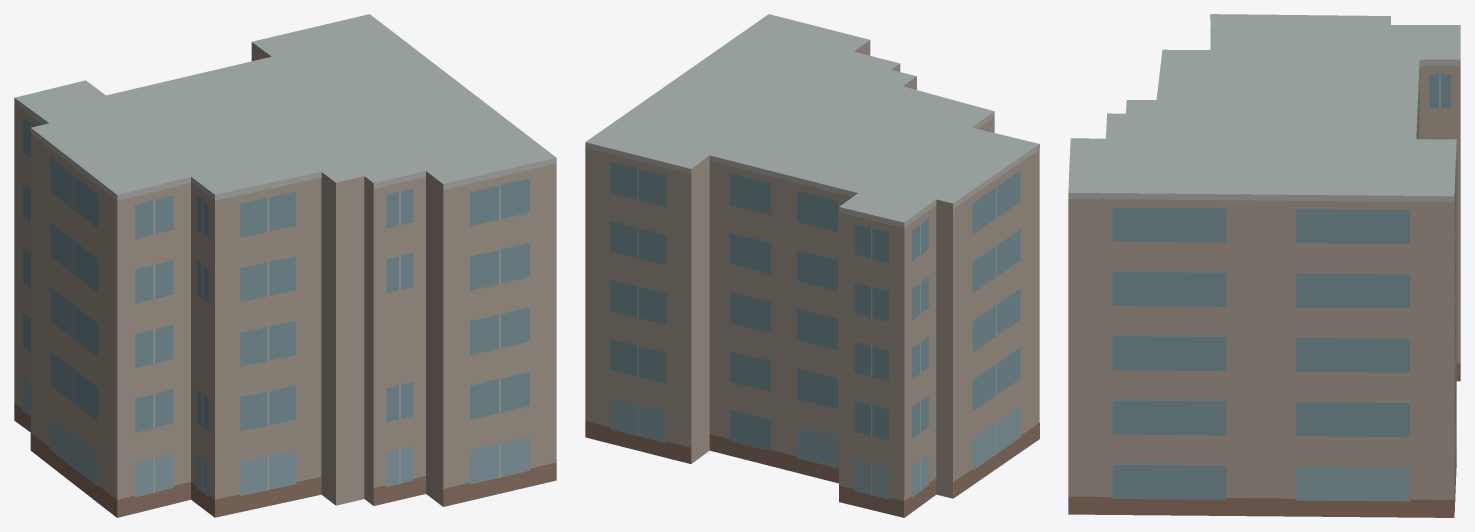
Rendered from survey-upis-32968297.glb.
3 views of the same model, side by side, from view 1: azimuth 30°, elevation 25°; view 2: azimuth 150°, elevation 25°; view 3: azimuth 270°, elevation 25° (orthographic). The views are drawn at different scales.
Visible parts, largest first — view 1: survey-upis-32968297.tmp; view 2: survey-upis-32968297.tmp; view 3: survey-upis-32968297.tmp.
Part boxes in pixels (box(x1,y1,x2,y2)): survey-upis-32968297.tmp: box(14, 14, 556, 517); survey-upis-32968297.tmp: box(585, 14, 1039, 517); survey-upis-32968297.tmp: box(1068, 14, 1460, 517).
Bounding box in the file's own units: 15.93 × 13.1 × 14.49.
